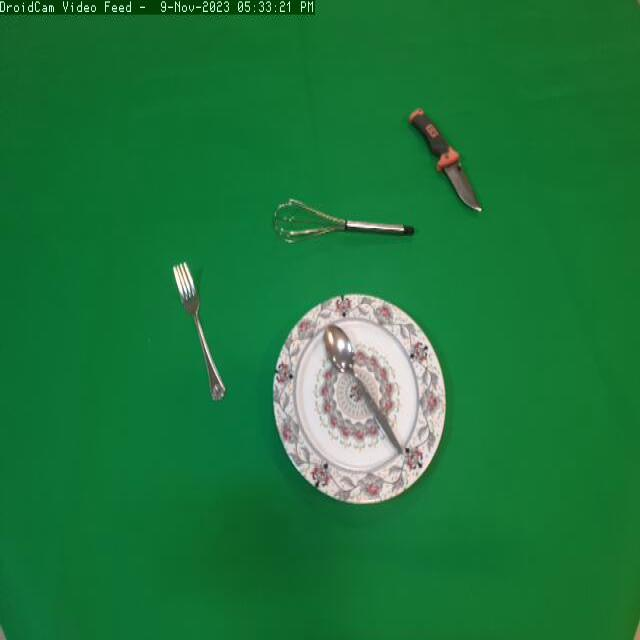fork: (170, 254, 229, 412)
knife: (407, 99, 492, 223)
plate: (265, 284, 465, 521)
spoon: (319, 314, 414, 463)
whisk: (270, 188, 426, 268)
